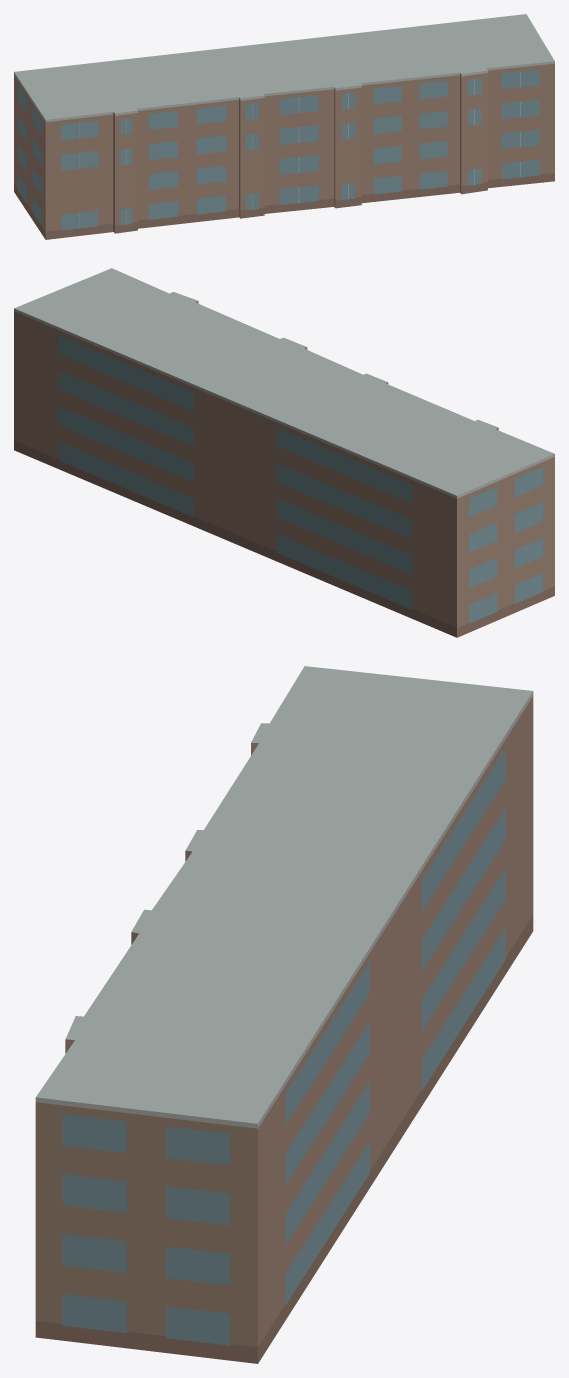
File: survey-upis-32731590.glb
The picture shows the model from 3 angles, top to bottom: view 1: azimuth 30°, elevation 25°; view 2: azimuth 150°, elevation 25°; view 3: azimuth 270°, elevation 25°; orthographic projection. The views are drawn at different scales.
Parts seen in each view (by area): view 1: survey-upis-32731590.tmp; view 2: survey-upis-32731590.tmp; view 3: survey-upis-32731590.tmp.
Boxes of the visible parts, x1,y1,x2,y2 form: survey-upis-32731590.tmp: (14, 14, 554, 239); survey-upis-32731590.tmp: (14, 268, 554, 637); survey-upis-32731590.tmp: (35, 666, 533, 1363).
Size of the model in its own units: 49.92 by 12.2 by 22.94.
